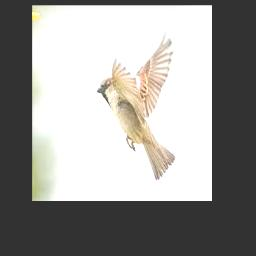Sparrow: (96, 31, 175, 180)
